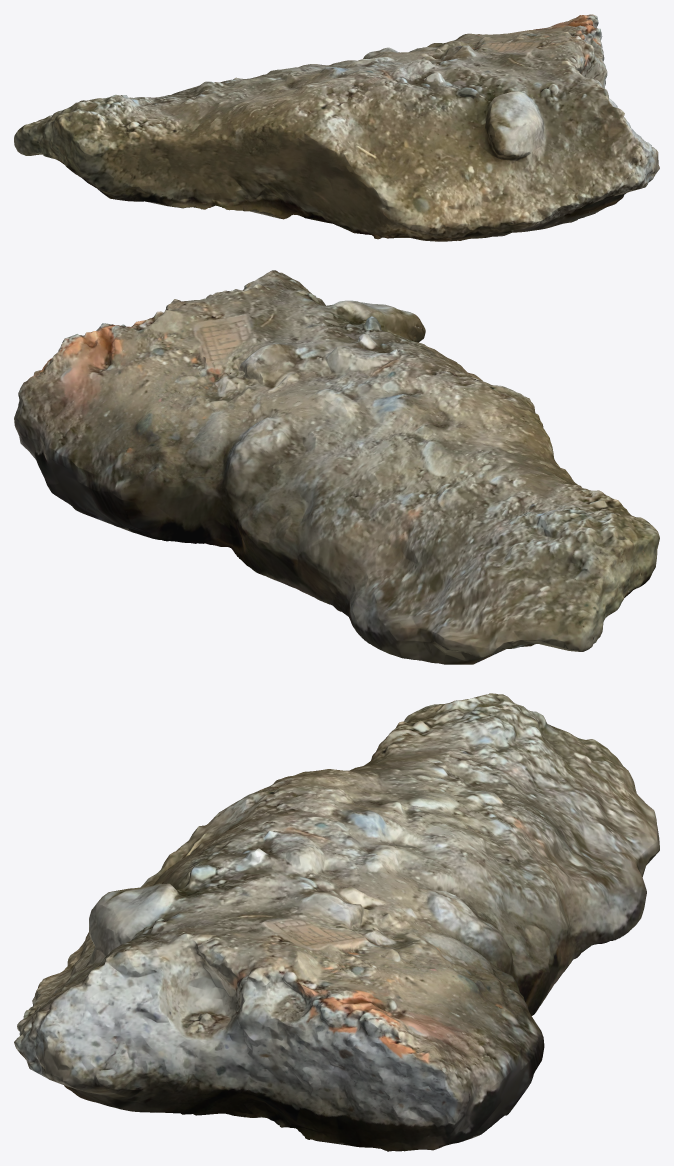
File: FRAG-S1-FS-010.glb
The picture shows the model from 3 angles, top to bottom: view 1: azimuth 30°, elevation 25°; view 2: azimuth 150°, elevation 25°; view 3: azimuth 270°, elevation 25°; orthographic projection. The views are drawn at different scales.
Parts seen in each view (by area): view 1: FRAG-S1-FS-010; view 2: FRAG-S1-FS-010; view 3: FRAG-S1-FS-010.
Boxes of the visible parts, x1,y1,x2,y2 form: FRAG-S1-FS-010: (14, 14, 659, 241); FRAG-S1-FS-010: (14, 270, 659, 664); FRAG-S1-FS-010: (14, 693, 659, 1151).
Bounding box in the file's own units: 2.01 × 0.4581 × 1.52.
Materials: 1 (1 with a texture image).
